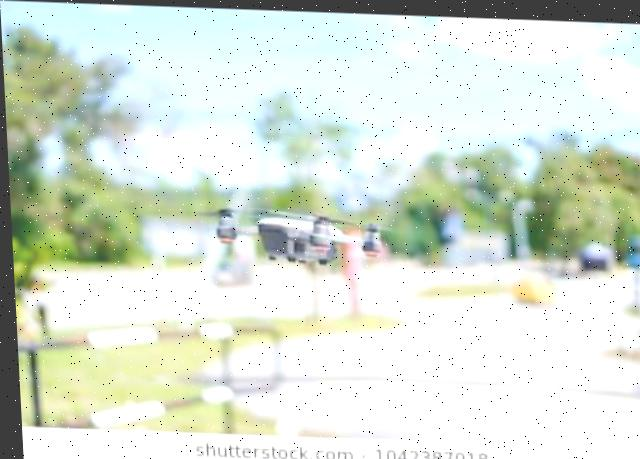drone: (157, 168, 445, 297)
